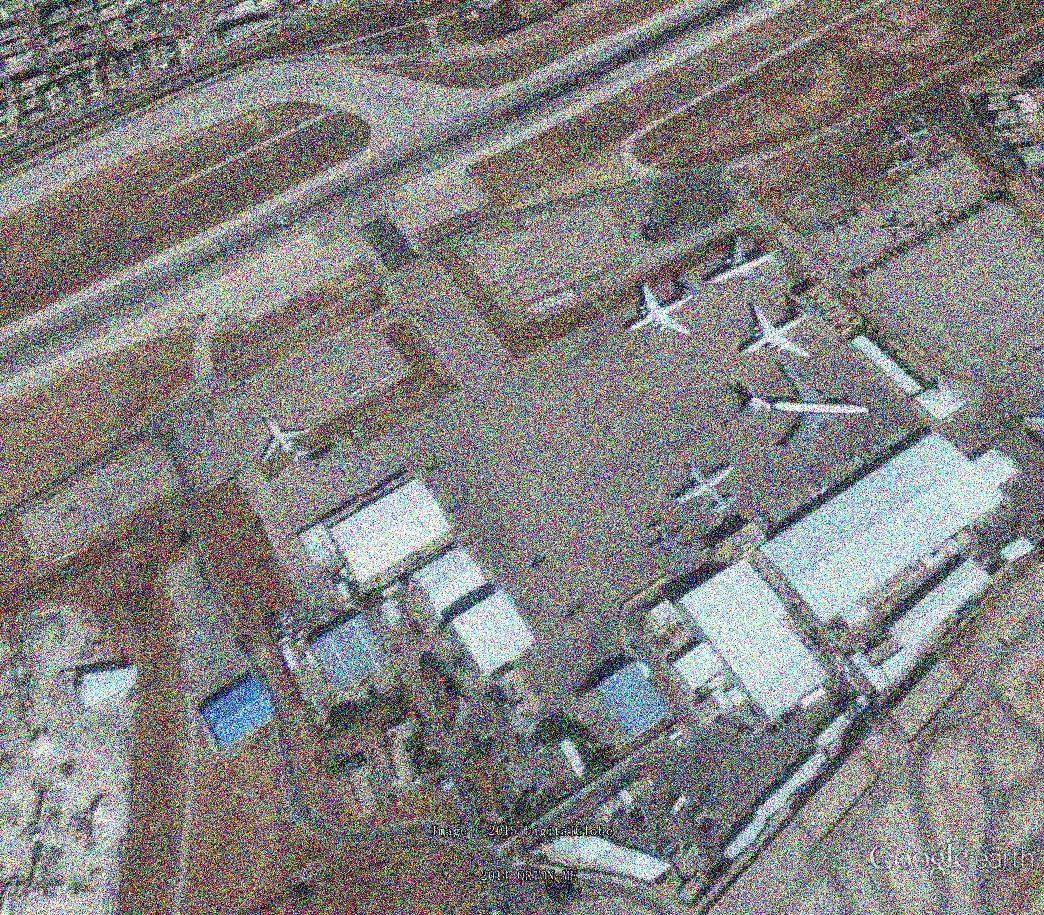aircraft: (726, 357, 877, 451), (735, 294, 838, 361), (622, 277, 717, 342), (703, 229, 793, 297), (670, 456, 744, 517), (258, 415, 318, 471), (883, 115, 939, 156), (643, 517, 691, 561), (885, 154, 924, 178), (375, 369, 402, 393), (334, 76, 357, 91), (348, 385, 367, 402), (274, 214, 292, 228)
